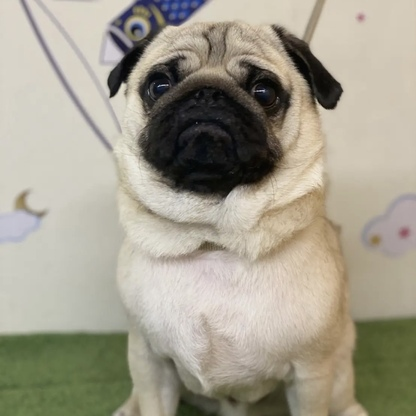Pug: (98, 13, 381, 416)
